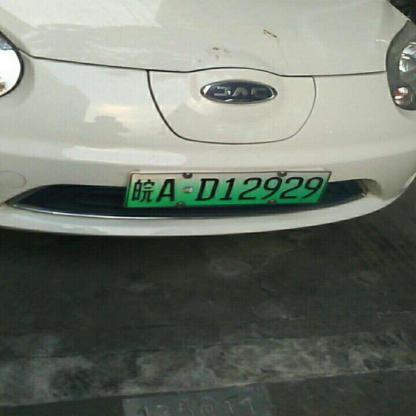lp: (125, 172, 330, 207)
